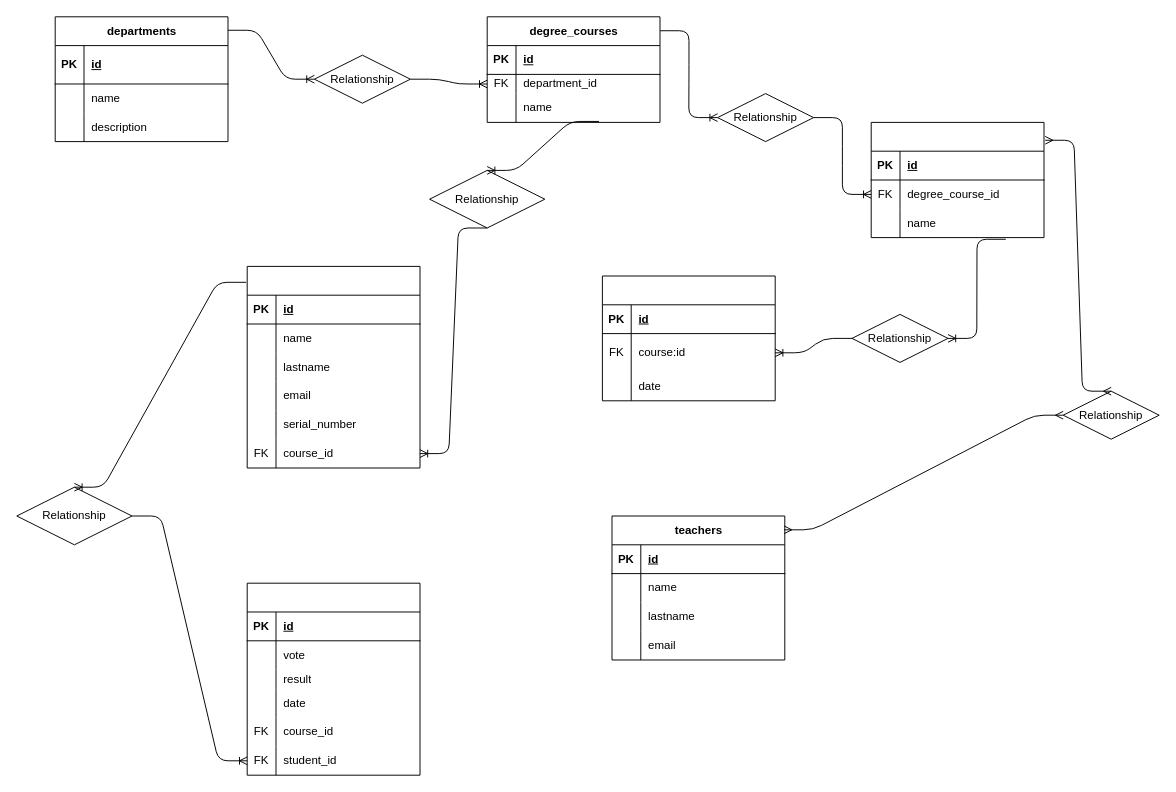
Some shapes in this 1176 by 792 pixel diagram are drawn without their labels. Each missing label, with the box of its shape:
courses: (870, 121, 1044, 238)
exam_appeals: (601, 275, 775, 401)
exams: (246, 582, 420, 775)
students: (246, 265, 420, 468)
